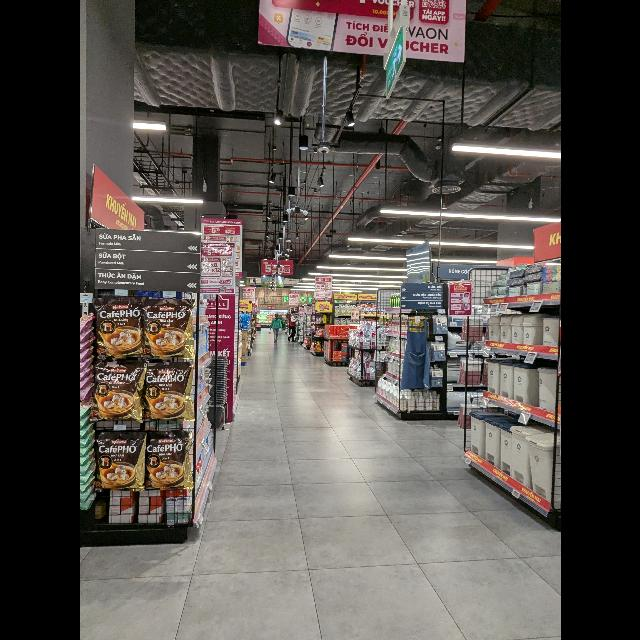exit: (384, 32, 404, 98)
